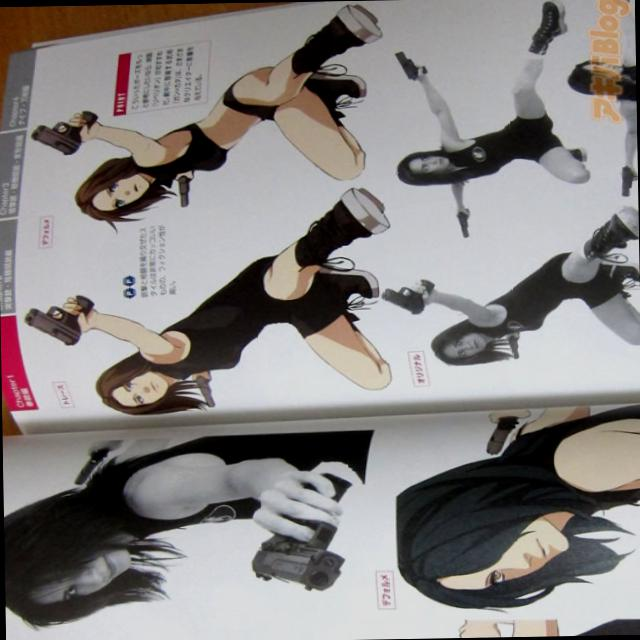handgun: (246, 522, 341, 594), (25, 290, 90, 354), (30, 109, 98, 160), (377, 276, 433, 319), (68, 446, 109, 486), (480, 417, 518, 456), (388, 50, 426, 86), (612, 166, 636, 198), (173, 174, 194, 206), (195, 377, 212, 410), (452, 208, 469, 238)
